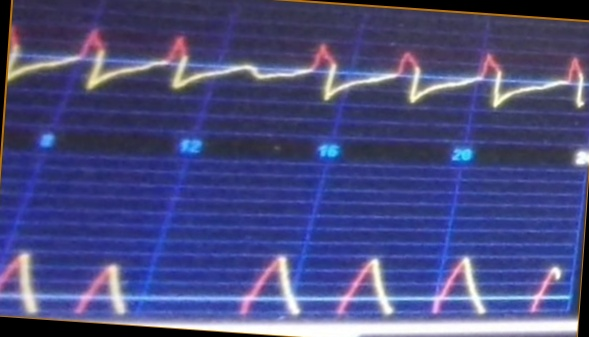Ineffective_effort Flow: (8, 25, 589, 117)
Ineffective_effort Volume: (1, 231, 563, 313)
